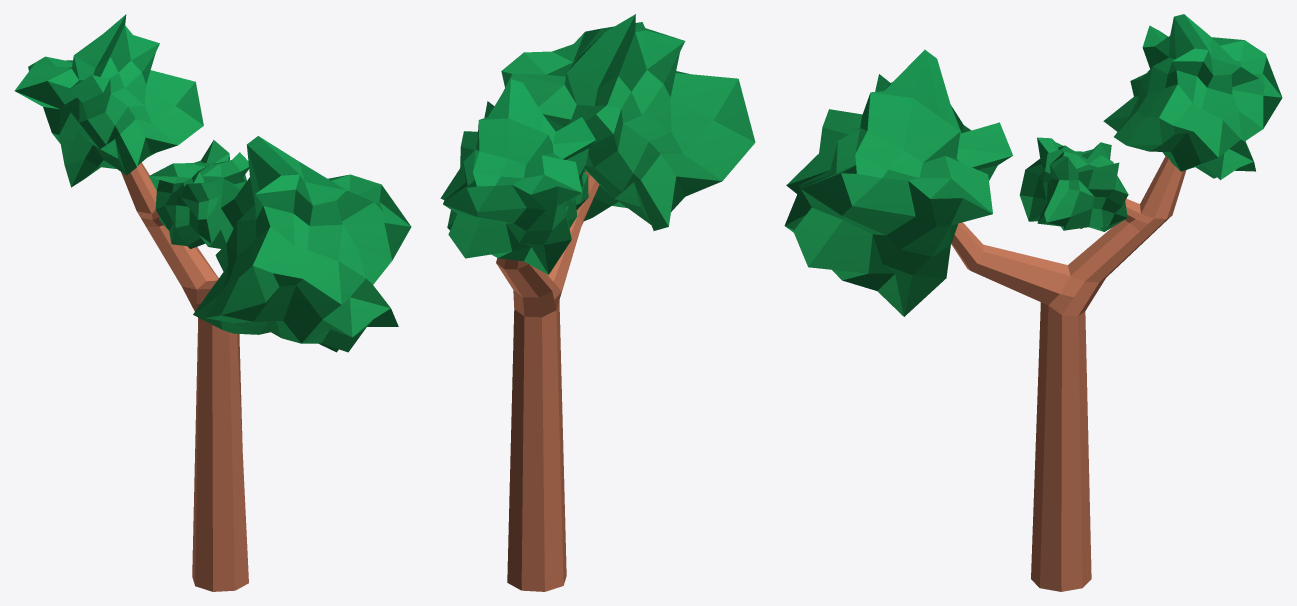
The model's file is Tree_03_gradient_green_vc.fbx.
3 renders of one model, left to right at view 1: azimuth 30°, elevation 25°; view 2: azimuth 150°, elevation 25°; view 3: azimuth 270°, elevation 25°, orthographic. The views are drawn at different scales.
Visible parts, largest first — view 1: Tree_03_gradient_green_vc; view 2: Tree_03_gradient_green_vc; view 3: Tree_03_gradient_green_vc.
Part boxes in pixels (left/top/right/bottom): Tree_03_gradient_green_vc: left=14, top=14, right=411, bottom=591; Tree_03_gradient_green_vc: left=440, top=14, right=755, bottom=591; Tree_03_gradient_green_vc: left=784, top=14, right=1282, bottom=591.
Size of the model in its own units: 77.81 by 178 by 146.
